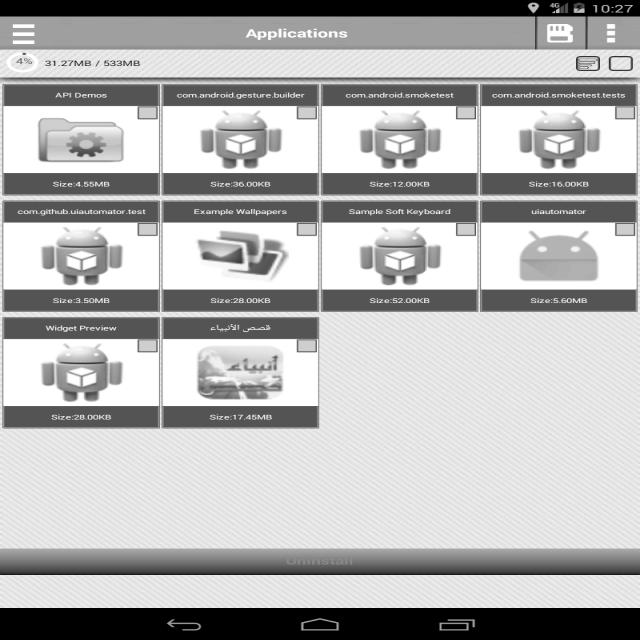Button: (3, 541, 634, 579)
CheckBox: (294, 334, 320, 354), (135, 336, 159, 356), (133, 219, 159, 237), (293, 221, 319, 238)
ImageButton: (3, 19, 45, 47), (542, 20, 580, 44), (564, 51, 603, 74), (595, 18, 625, 44)
ImageView: (502, 222, 616, 288), (182, 110, 292, 168), (350, 224, 452, 285), (28, 111, 137, 168), (354, 104, 447, 170), (25, 226, 122, 288), (190, 343, 288, 401), (37, 342, 122, 402), (4, 51, 46, 75)
TextView: (238, 24, 354, 45), (176, 88, 306, 100), (344, 207, 455, 219), (202, 409, 283, 422), (526, 206, 594, 217), (49, 411, 116, 421)
